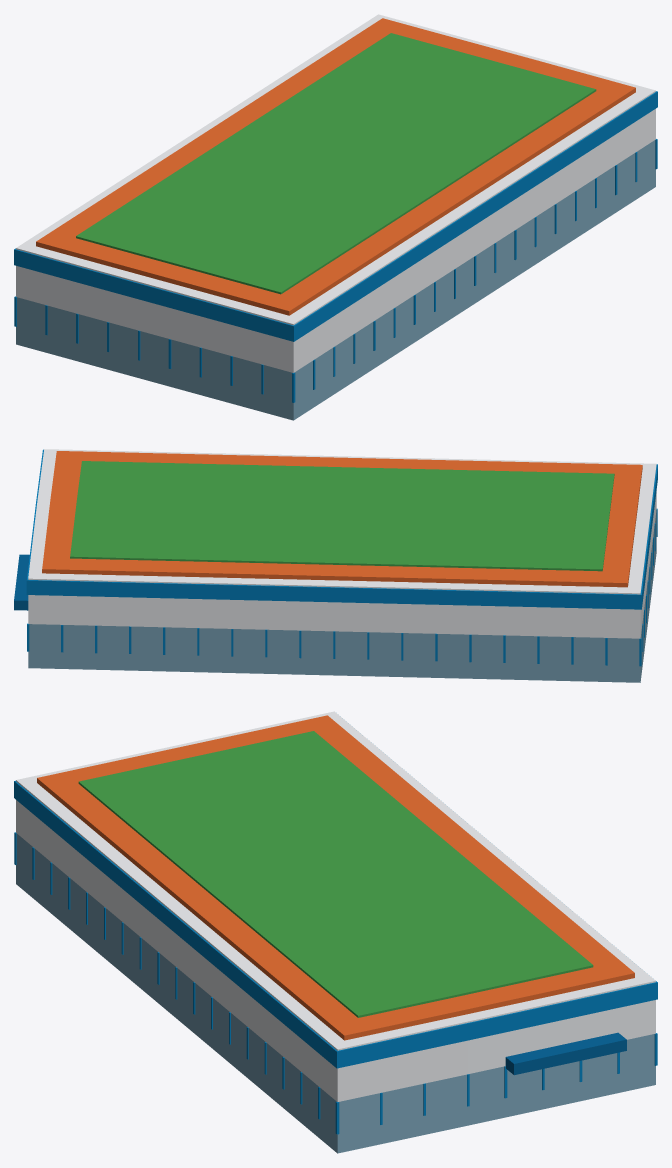
Rendered from decathlon-beitun.glb.
3 views of the same model, one above another, from view 1: azimuth 30°, elevation 25°; view 2: azimuth 150°, elevation 25°; view 3: azimuth 270°, elevation 25° (orthographic). The views are drawn at different scales.
Visible parts, largest first — view 1: decathlon-beitun; view 2: decathlon-beitun; view 3: decathlon-beitun.
Boxes of the visible parts, <box> form: decathlon-beitun: <box>14,14,657,420</box>; decathlon-beitun: <box>14,449,657,682</box>; decathlon-beitun: <box>14,711,657,1153</box>.
Size of the model in its own units: 104 by 15.8 by 82.94.
